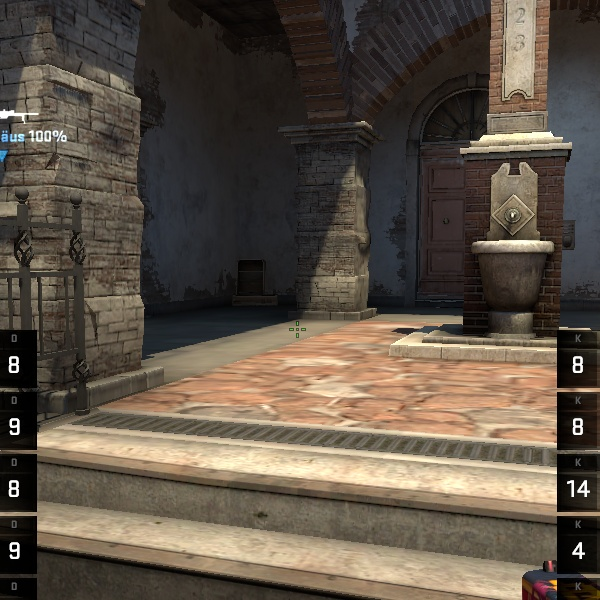ct_body: (2, 181, 41, 288)
ct_head: (8, 182, 35, 219)
